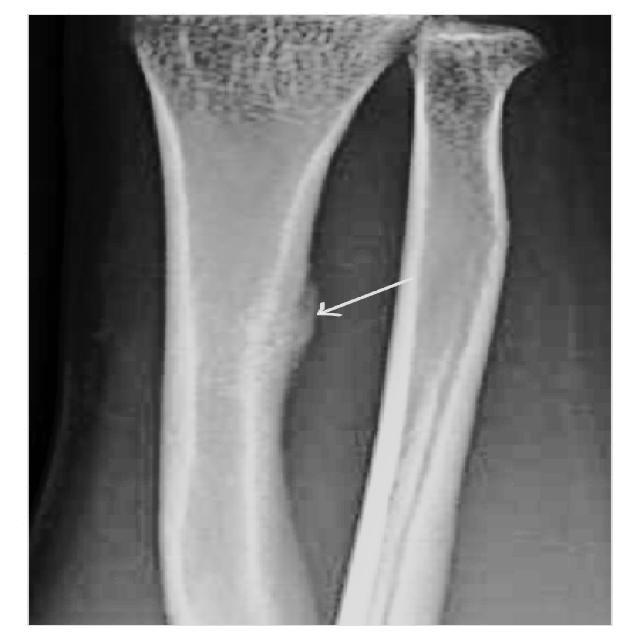HairLine Fracture: (276, 272, 318, 355)
